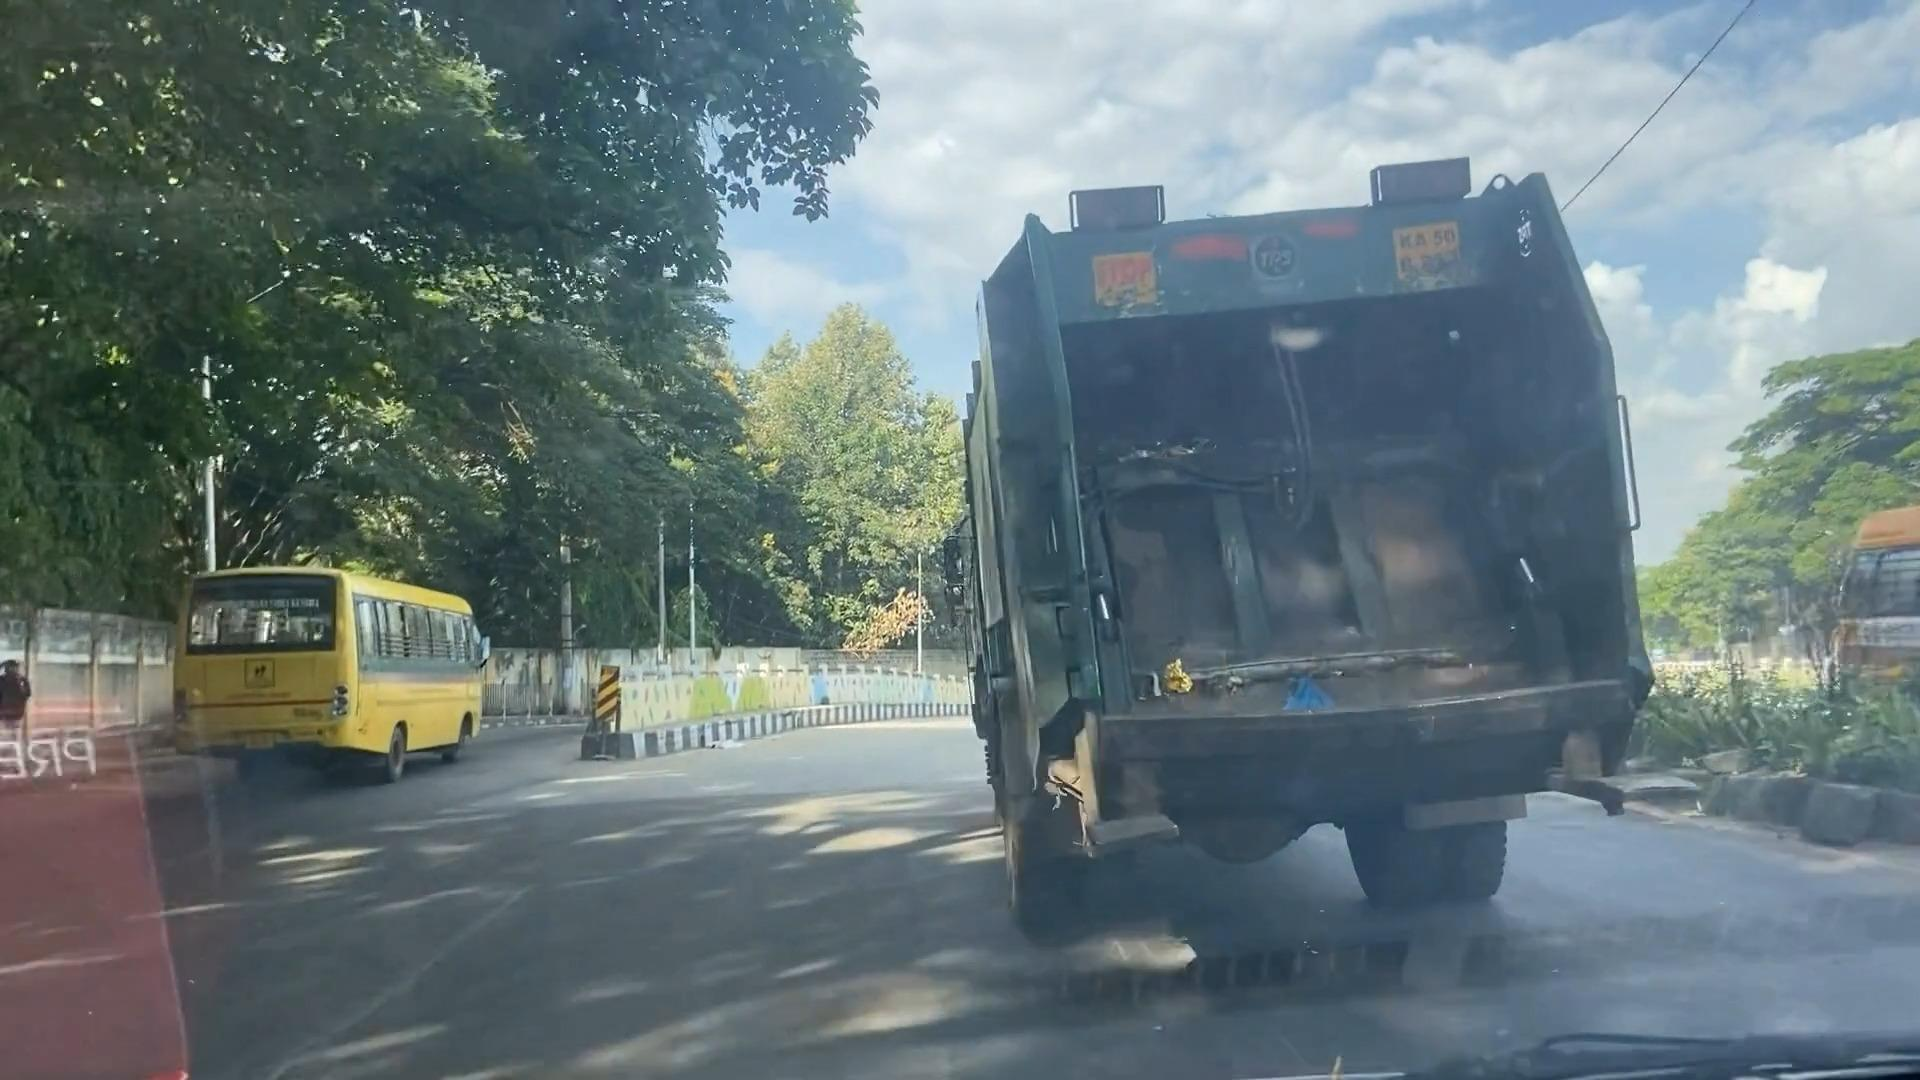HMV: (964, 170, 1626, 887), (164, 562, 498, 771)
RoadDamages: (232, 876, 546, 1080)
